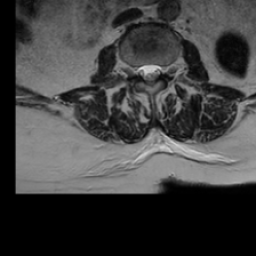CCS_normal: (146, 58, 153, 88)
LFS_normal: (160, 58, 167, 81)
LLS_normal: (153, 59, 160, 82)
RFS_normal: (130, 58, 138, 82)
RLS_normal: (138, 58, 146, 84)
